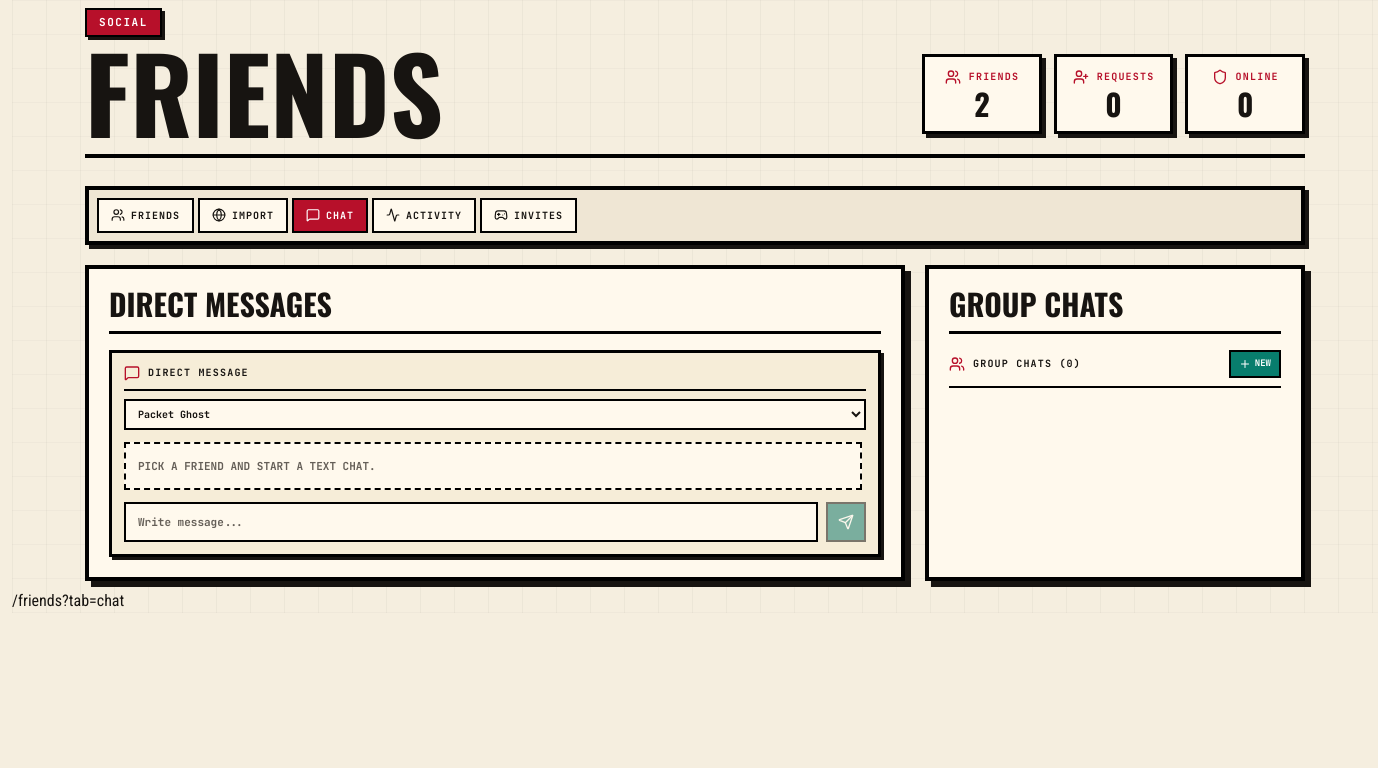
FriendsPage › does not append a delayed send result to a newly selected friend's thread
Step 1. Type "Message meant for Packet Ghost" into the field with placeholder "Write message..." → (471, 522), box [124, 502, 818, 542]
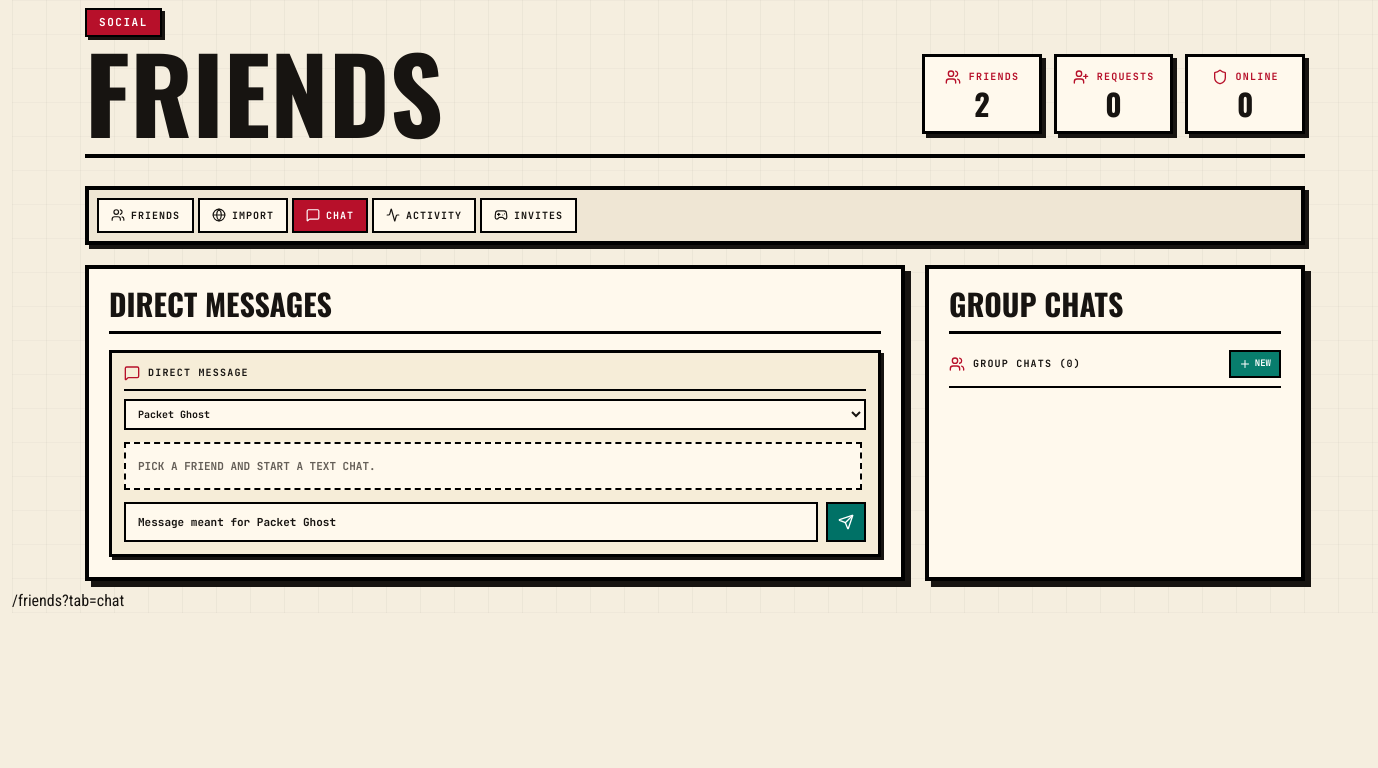
Step 2. Click the button named "send message" → (846, 522), box [826, 502, 866, 542]
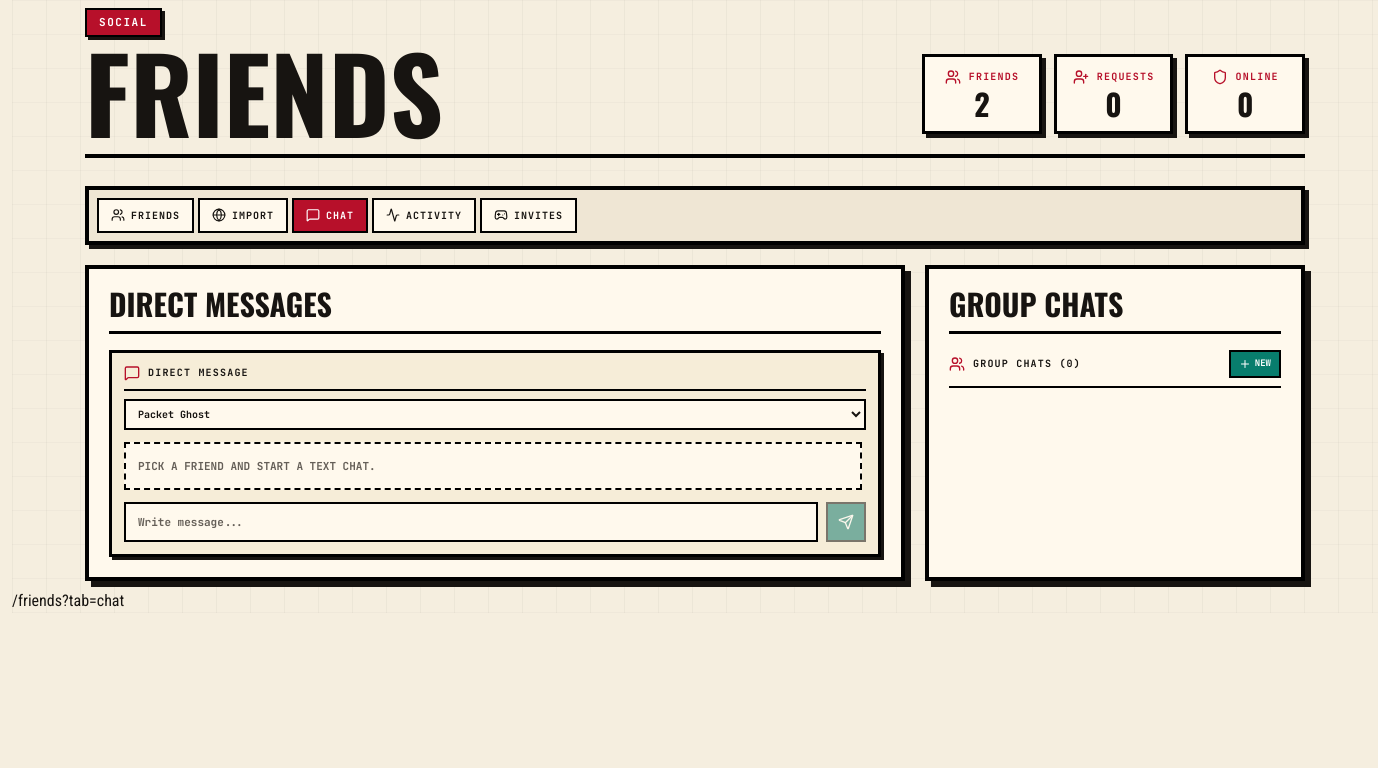
Step 3. Select "Silent Node" in the dropdown → (495, 414), box [124, 399, 866, 430]
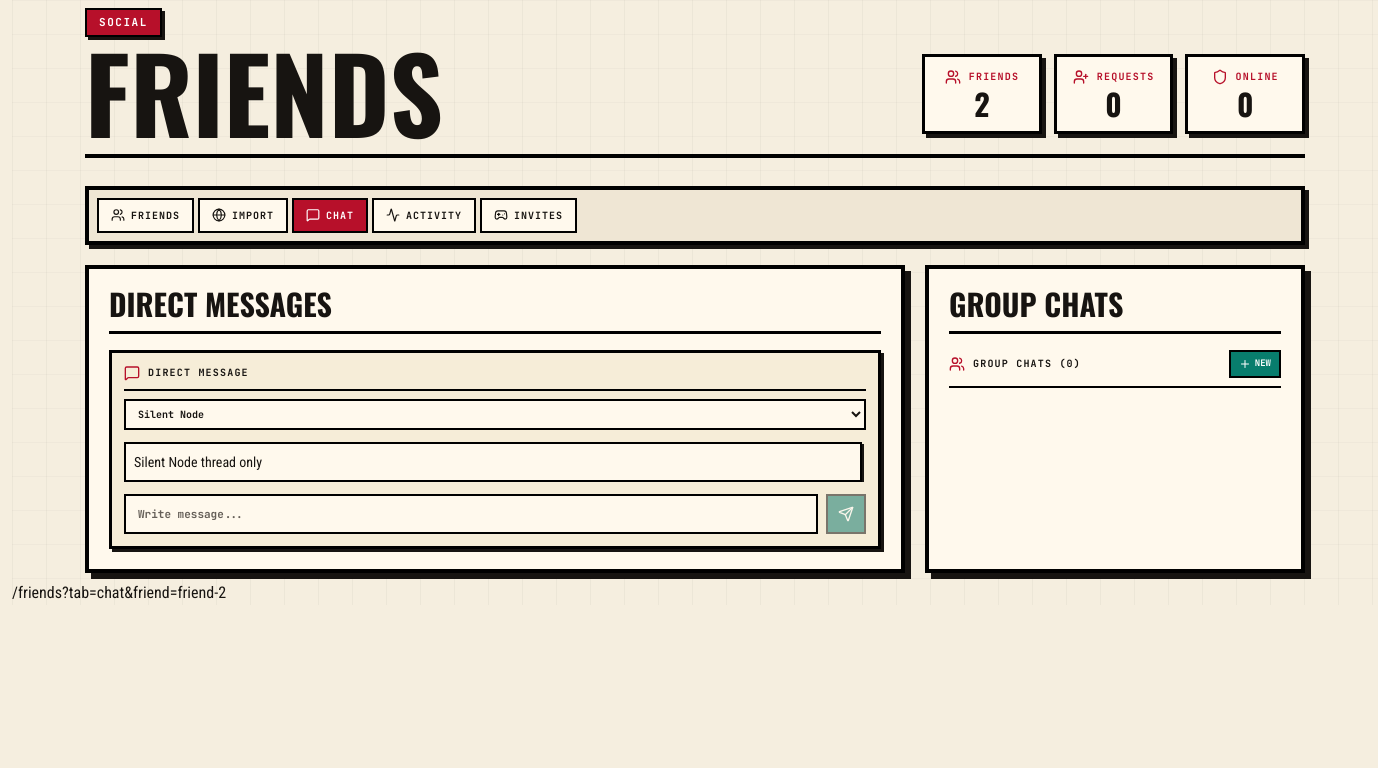
Check: the text "Message meant for Packet Ghost" is not shown
Check: the text "Silent Node thread only" is shown, box [124, 442, 862, 482]
